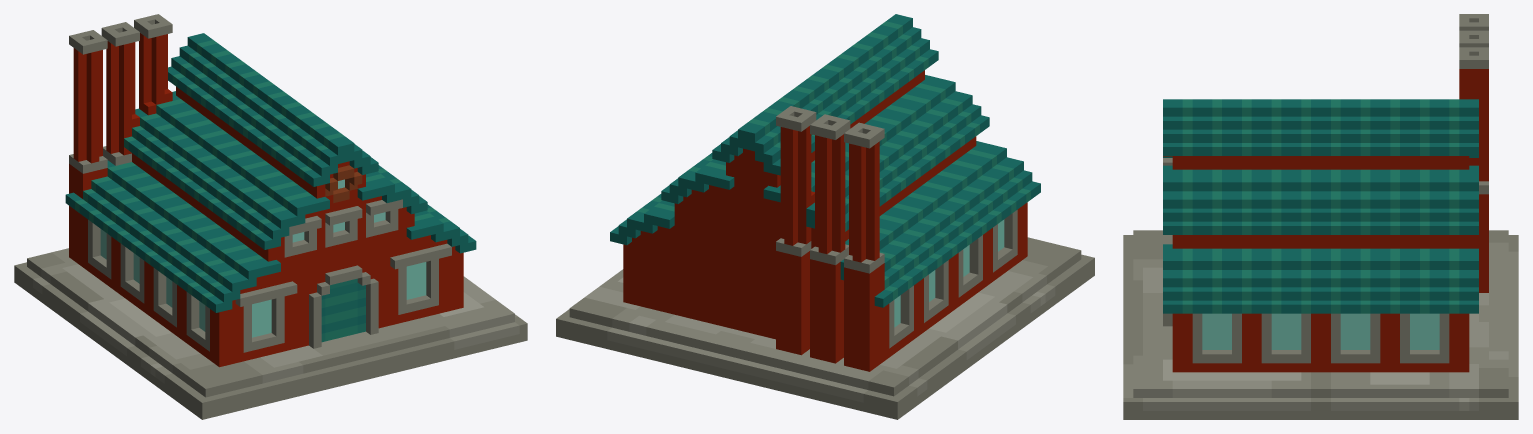
The model's file is Fabric.obj.
3 renders of one model, left to right at view 1: azimuth 30°, elevation 25°; view 2: azimuth 150°, elevation 25°; view 3: azimuth 270°, elevation 25°, orthographic. The views are drawn at different scales.
Bounding box in the file's own units: 4 × 2.9 × 4.
1 material, 1 textured.
